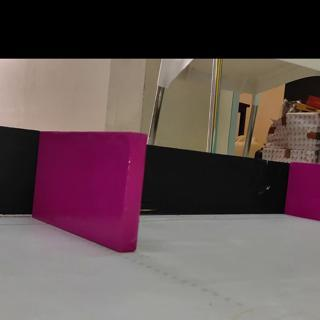xparking: (41, 133, 144, 241), (289, 163, 320, 216)
